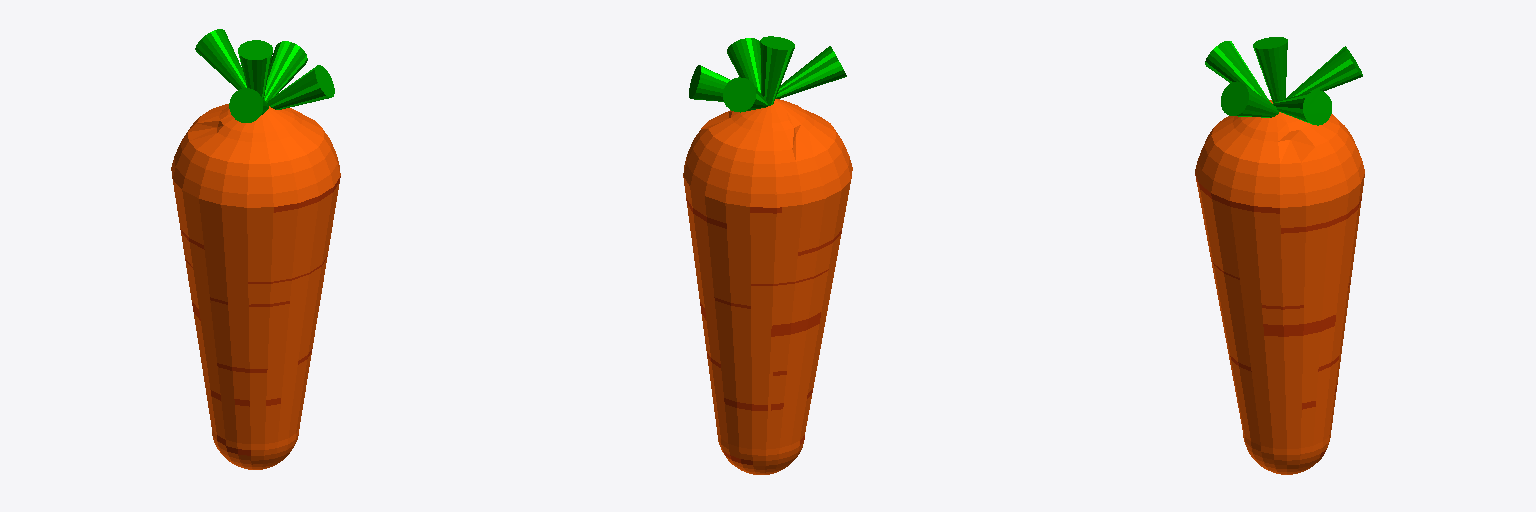
Rendered from zanahoria.obj.
The picture shows the model from 3 angles: view 1: azimuth 30°, elevation 25°; view 2: azimuth 150°, elevation 25°; view 3: azimuth 270°, elevation 25°; orthographic projection.
Parts seen in each view (by area): view 1: pSphere1, pCone2, pCone1, pCone3, pCone4, pCone5; view 2: pSphere1, pCone4, pCone5, pCone2, pCone1, pCone3; view 3: pSphere1, pCone4, pCone1, pCone5, pCone2, pCone3.
Boxes of the visible parts, x1,y1,x2,y2 form: pSphere1: [171, 104, 340, 469]; pCone2: [267, 65, 334, 109]; pCone1: [195, 29, 246, 89]; pCone3: [264, 41, 307, 102]; pCone4: [238, 40, 272, 98]; pCone5: [229, 88, 268, 122]; pSphere1: [683, 99, 852, 474]; pCone4: [760, 36, 794, 105]; pCone5: [776, 46, 846, 98]; pCone2: [727, 38, 760, 92]; pCone1: [723, 77, 767, 112]; pCone3: [689, 65, 730, 101]; pSphere1: [1195, 100, 1364, 474]; pCone4: [1253, 37, 1287, 102]; pCone1: [1286, 46, 1362, 98]; pCone5: [1205, 41, 1270, 102]; pCone2: [1221, 81, 1278, 117]; pCone3: [1273, 90, 1331, 125].
Size of the model in its own units: 1.78 by 4.92 by 1.78.